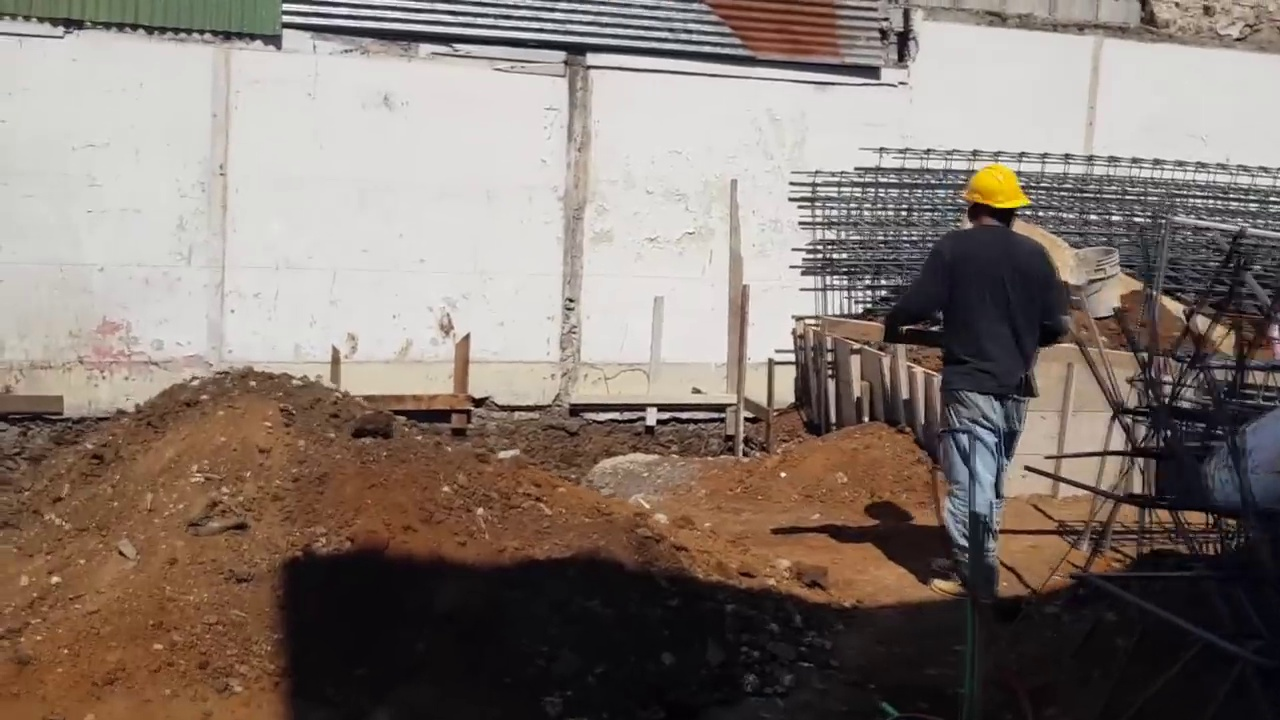helmet: (964, 159, 1033, 214)
helmet-on: (966, 168, 1038, 240)
person: (872, 156, 1088, 603)
